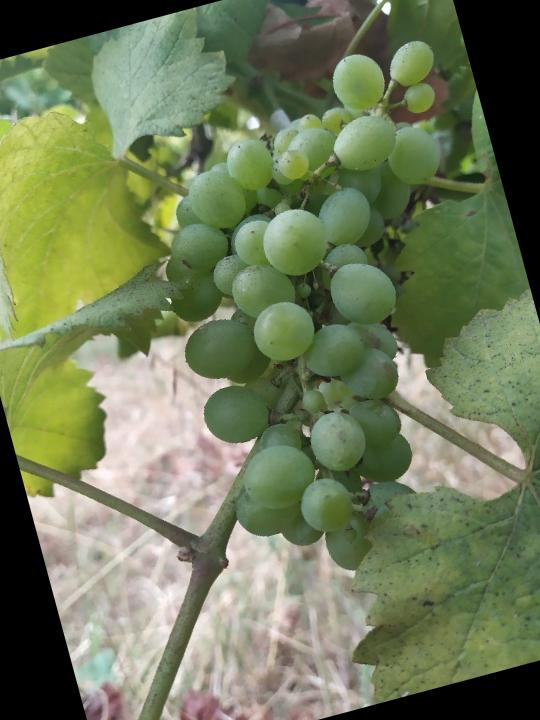grape: (116, 32, 540, 602)
